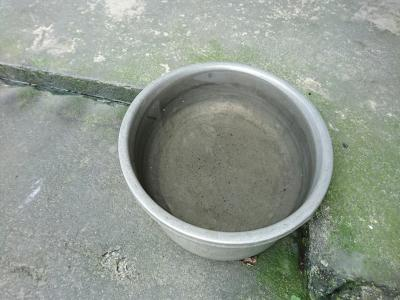bowl: (114, 60, 337, 265)
